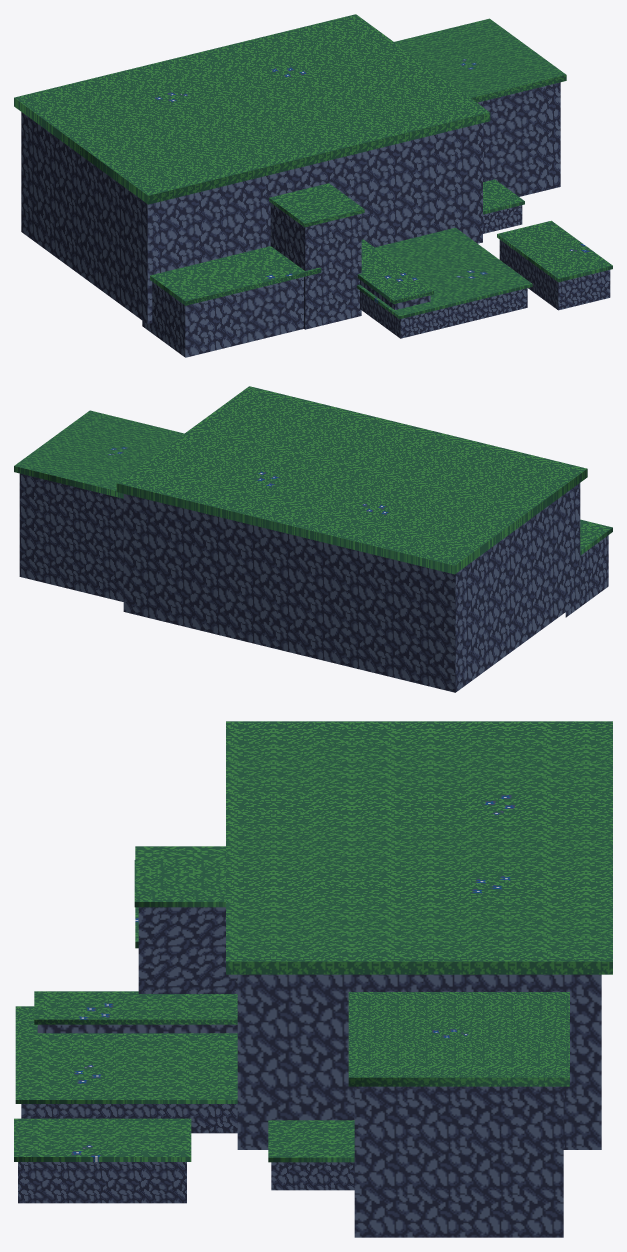
File: EntradaVila.fbx
3 views of the same model, one above another, from view 1: azimuth 30°, elevation 25°; view 2: azimuth 150°, elevation 25°; view 3: azimuth 270°, elevation 25° (orthographic). The views are drawn at different scales.
Visible parts, largest first — view 1: EntradaVila; view 2: EntradaVila; view 3: EntradaVila.
Boxes of the visible parts, x1=… form: EntradaVila: x1=14, y1=14, x2=612, y2=357; EntradaVila: x1=14, y1=386, x2=612, y2=692; EntradaVila: x1=14, y1=721, x2=612, y2=1237.
Bounding box in the file's own units: 7149 × 5584 × 2139.
